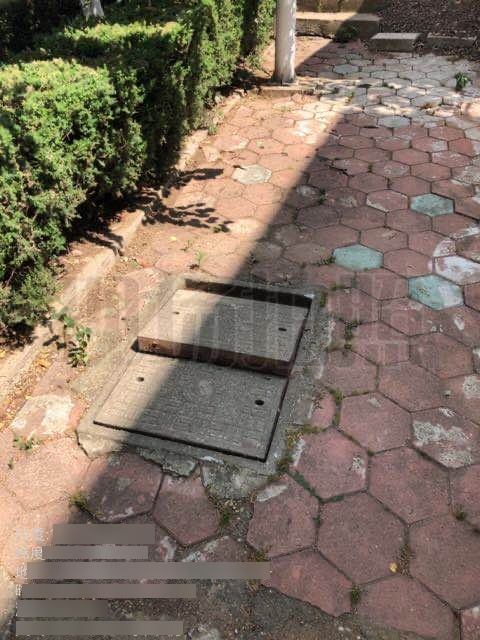uncovered: (79, 270, 328, 477)
